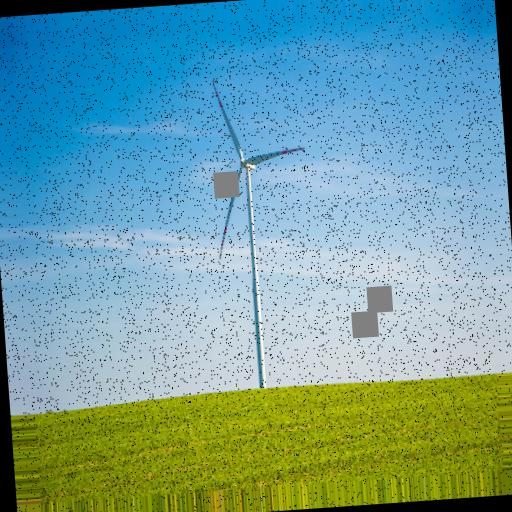wind turbine: (210, 80, 307, 386)
